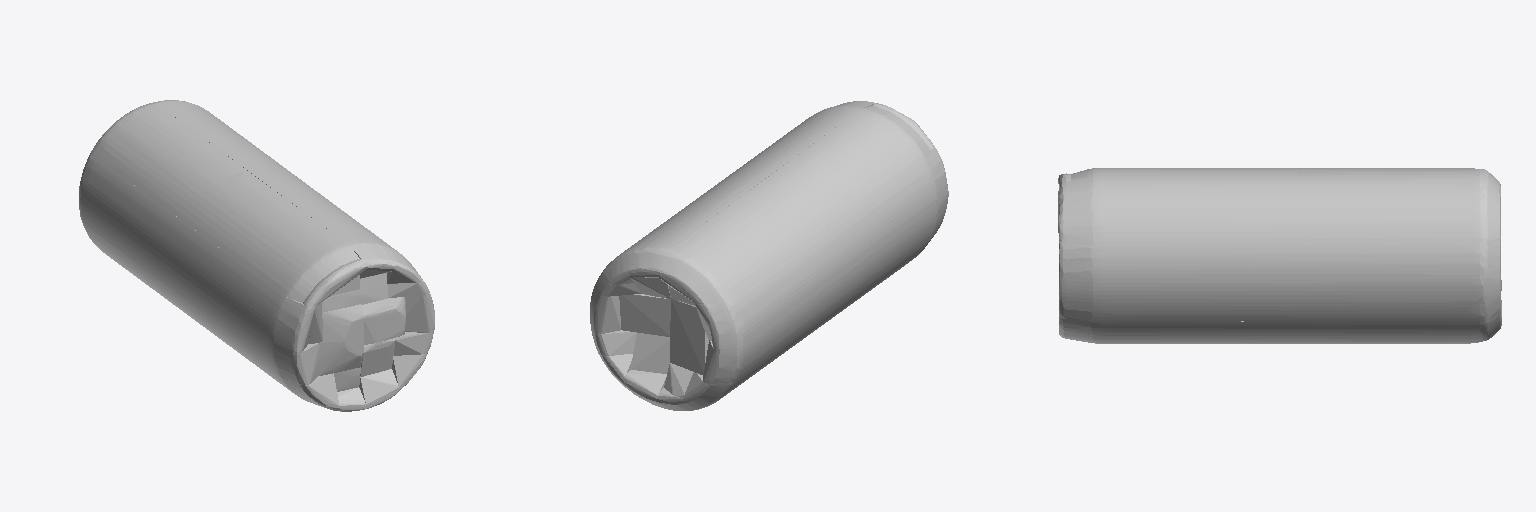
File: coacd_collision.obj
The picture shows the model from 3 angles: view 1: azimuth 30°, elevation 25°; view 2: azimuth 150°, elevation 25°; view 3: azimuth 270°, elevation 25°; orthographic projection.
Parts seen in each view (by area): view 1: geometry_19, geometry_11, geometry_0, geometry_8, geometry_18, geometry_7, geometry_3, geometry_20, geometry_6, geometry_10, geometry_5, geometry_9 (+7 smaller); view 2: geometry_19, geometry_0, geometry_11, geometry_8, geometry_18, geometry_3, geometry_20, geometry_7, geometry_6, geometry_4, geometry_9, geometry_5 (+5 smaller); view 3: geometry_20, geometry_9, geometry_2, geometry_18, geometry_1, geometry_13, geometry_11, geometry_0.
Part boxes in pixels (left/top/right/bottom): geometry_19: left=79, top=152, right=314, bottom=353; geometry_11: left=184, top=171, right=359, bottom=302; geometry_0: left=91, top=103, right=246, bottom=221; geometry_8: left=79, top=200, right=319, bottom=385; geometry_18: left=153, top=100, right=393, bottom=278; geometry_7: left=319, top=304, right=363, bottom=375; geometry_3: left=87, top=233, right=339, bottom=410; geometry_20: left=183, top=101, right=422, bottom=283; geometry_6: left=361, top=297, right=405, bottom=344; geometry_10: left=303, top=259, right=365, bottom=306; geometry_5: left=359, top=369, right=398, bottom=408; geometry_9: left=405, top=293, right=434, bottom=332; geometry_19: left=709, top=146, right=948, bottom=351; geometry_0: left=658, top=183, right=822, bottom=304; geometry_11: left=760, top=106, right=929, bottom=233; geometry_8: left=703, top=194, right=948, bottom=383; geometry_18: left=630, top=101, right=874, bottom=277; geometry_3: left=684, top=230, right=937, bottom=410; geometry_20: left=601, top=103, right=844, bottom=284; geometry_7: left=670, top=299, right=708, bottom=374; geometry_6: left=619, top=294, right=670, bottom=336; geometry_4: left=631, top=333, right=669, bottom=373; geometry_9: left=590, top=286, right=620, bottom=333; geometry_5: left=625, top=370, right=666, bottom=407; geometry_20: left=1059, top=195, right=1500, bottom=246; geometry_9: left=1059, top=255, right=1500, bottom=303; geometry_2: left=1059, top=315, right=1501, bottom=343; geometry_18: left=1059, top=176, right=1500, bottom=209; geometry_1: left=1059, top=298, right=1500, bottom=321; geometry_13: left=1059, top=238, right=1500, bottom=262; geometry_11: left=1071, top=168, right=1296, bottom=179; geometry_0: left=1297, top=168, right=1500, bottom=190.
Size of the model in its own units: 59.16 by 58.88 by 148.